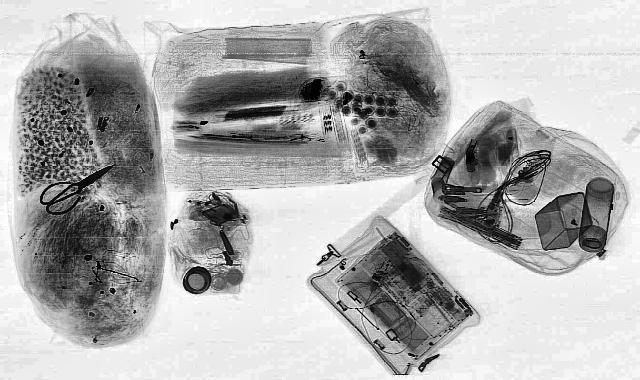Scissors: (21, 155, 134, 218)
